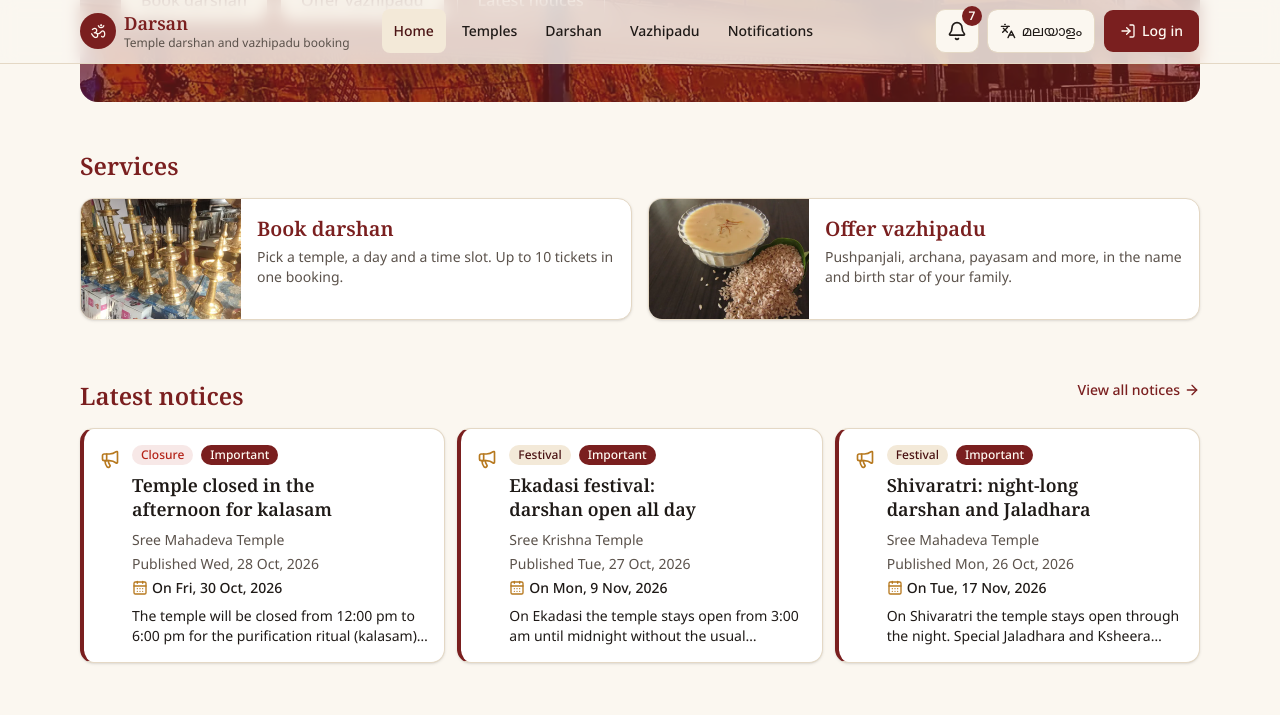
it: Notification bell › counts new notices and clears the count once the notifications page is opened
The image size is (1280, 715).
(page scrolled)
Note: First visit: notices from the last 7 days count as new.
Click the link "7": [957, 31] box [935,9,979,53]
(page scrolled)
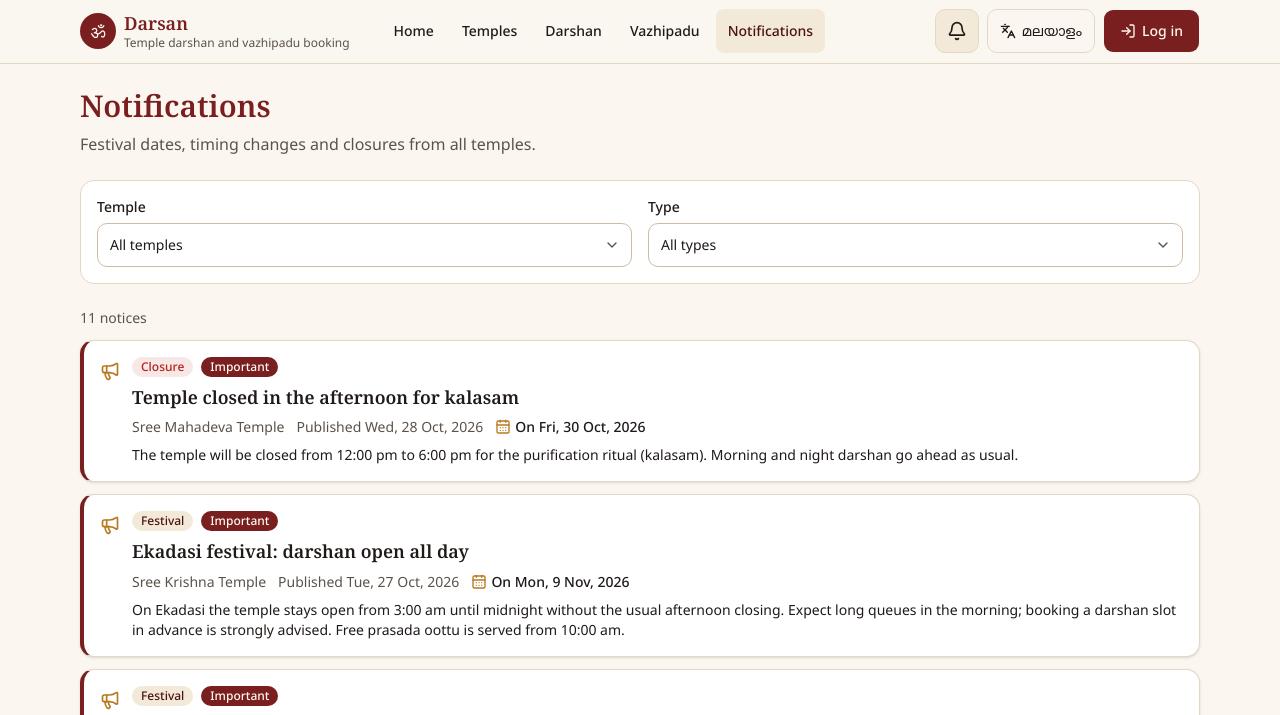
Expected: the heading "Notifications" is shown, [80,84,271,126]
